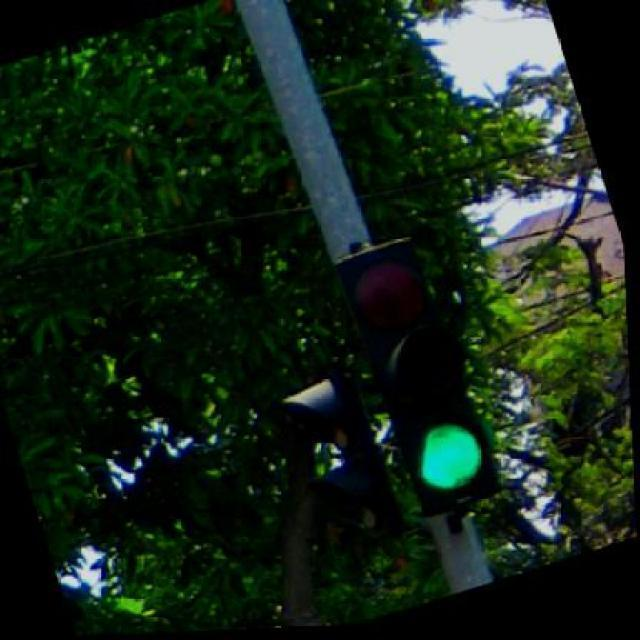green_light: (334, 237, 496, 514)
